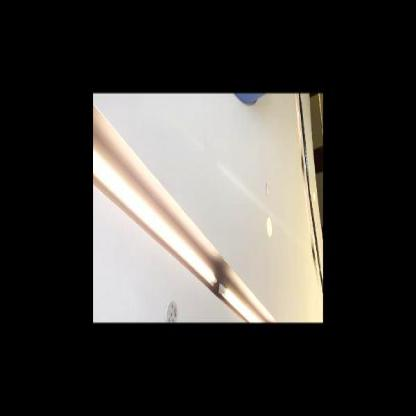light_on: (93, 154, 217, 293), (217, 278, 268, 322)
